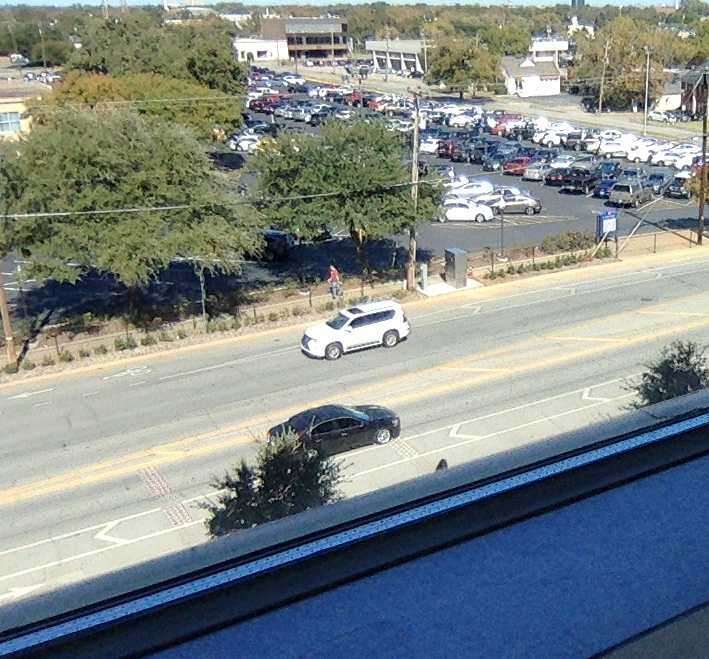car: (300, 300, 409, 359)
